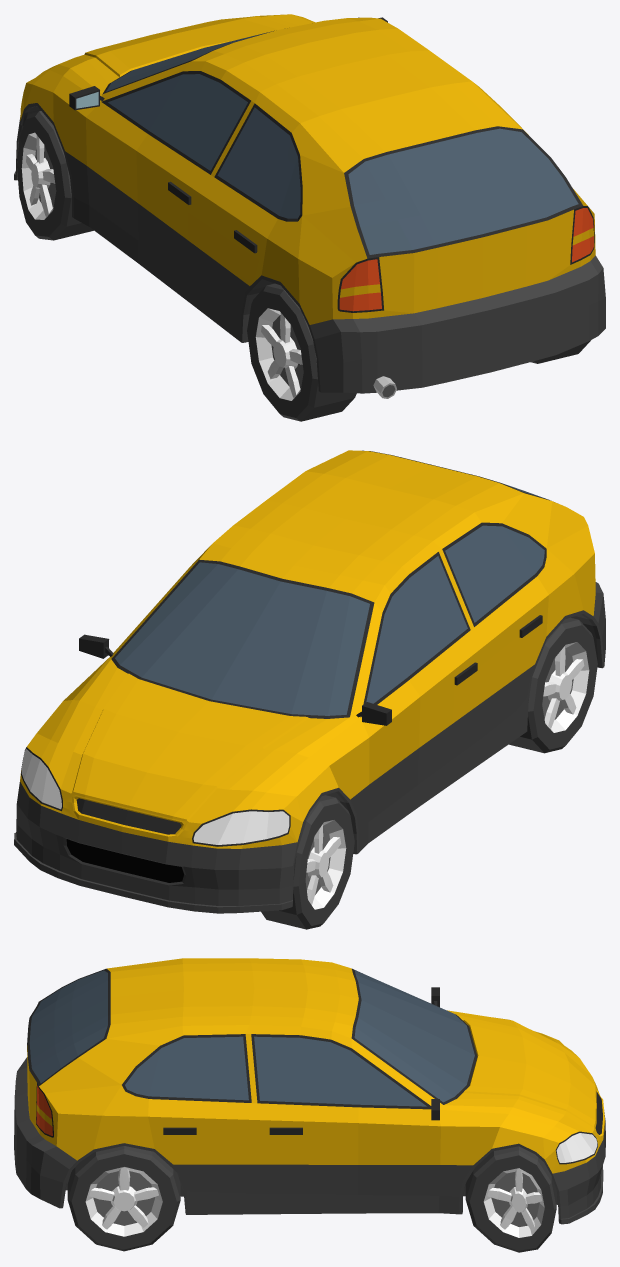
File: crashed_hatchback.glb
3 renders of one model, top to bottom at view 1: azimuth 30°, elevation 25°; view 2: azimuth 150°, elevation 25°; view 3: azimuth 270°, elevation 25°, orthographic. The views are drawn at different scales.
Parts seen in each view (by area): view 1: Hatchback Car_15, Hatchback Car_15 BL Tire, Hatchback Car_15 FL Tire; view 2: Hatchback Car_15, Hatchback Car_15 BL Tire, Hatchback Car_15 FL Tire; view 3: Hatchback Car_15, Hatchback Car_15 BR Tire, Hatchback Car_15 FR Tire.
Boxes of the visible parts, left/top/right/bottom form: Hatchback Car_15: left=14, top=14, right=605, bottom=398; Hatchback Car_15 BL Tire: left=247, top=283, right=356, bottom=421; Hatchback Car_15 FL Tire: left=17, top=111, right=93, bottom=240; Hatchback Car_15: left=14, top=450, right=605, bottom=913; Hatchback Car_15 BL Tire: left=509, top=617, right=597, bottom=753; Hatchback Car_15 FL Tire: left=261, top=795, right=354, bottom=929; Hatchback Car_15: left=14, top=958, right=605, bottom=1224; Hatchback Car_15 BR Tire: left=67, top=1146, right=180, bottom=1251; Hatchback Car_15 FR Tire: left=465, top=1146, right=556, bottom=1252.
Bounding box in the file's own units: 1.87 × 1.48 × 3.8.
2 materials, 2 textured.
